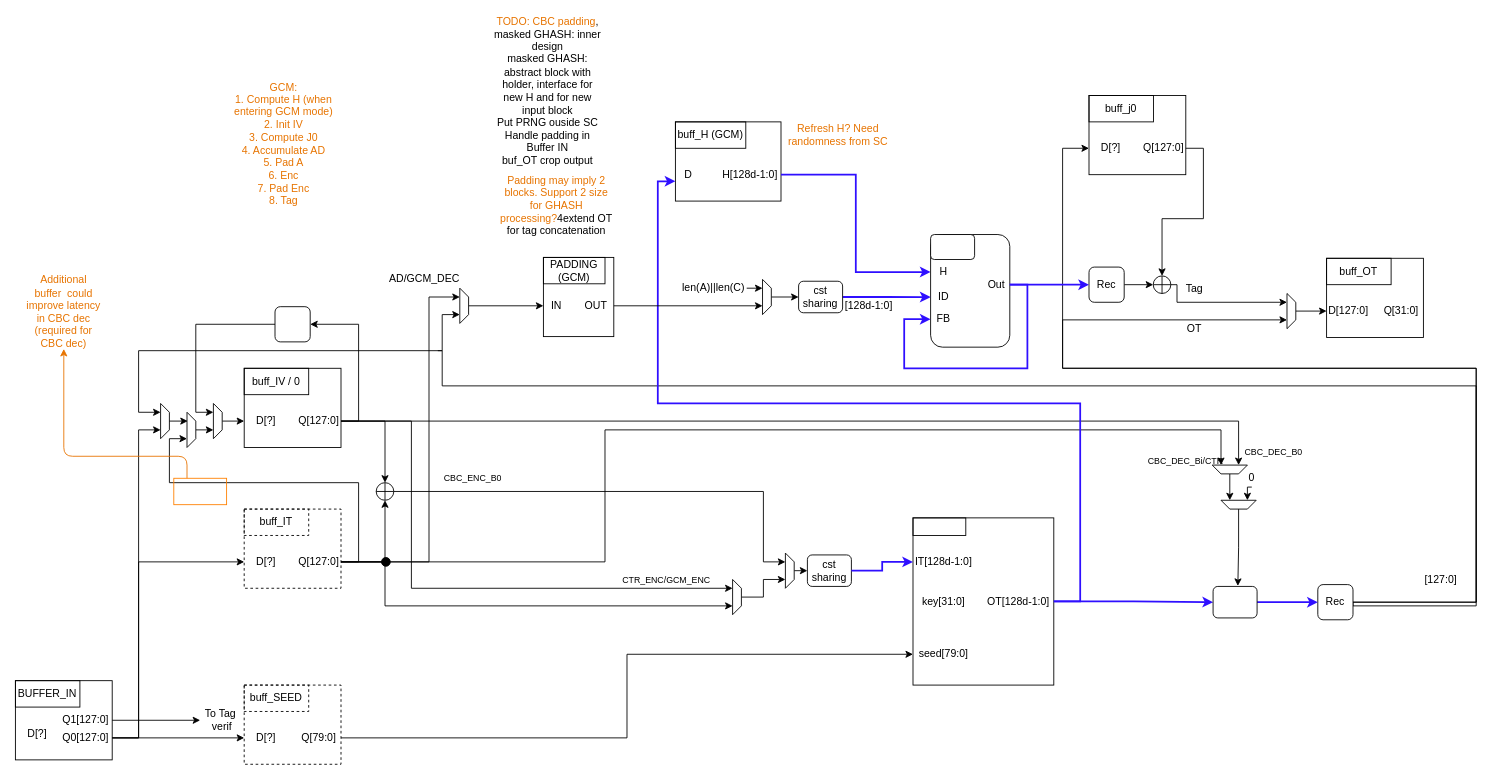
This 1499x780 diagram has some shape labels left out. Each missing label, with the box of its shape:
CBC_DEC_Bi: (173, 477, 227, 505)
GHASH: (930, 234, 975, 260)
Incr: (274, 306, 310, 342)
SC: (912, 517, 966, 535)
xor cst: (1212, 586, 1257, 618)
